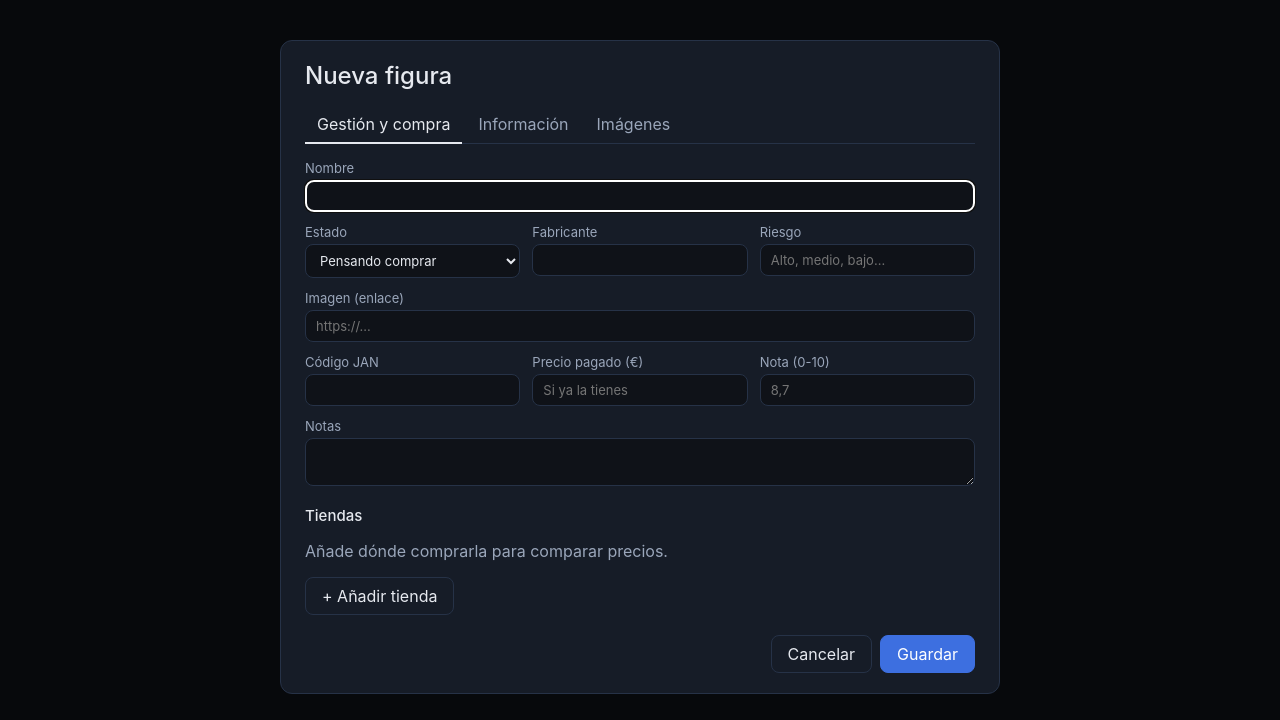
Scenario: FormularioFigura › pide elegir la tienda de cada fila
Type "Maga" into the field labelled "Nombre" at [640, 196], box [305, 180, 975, 212]
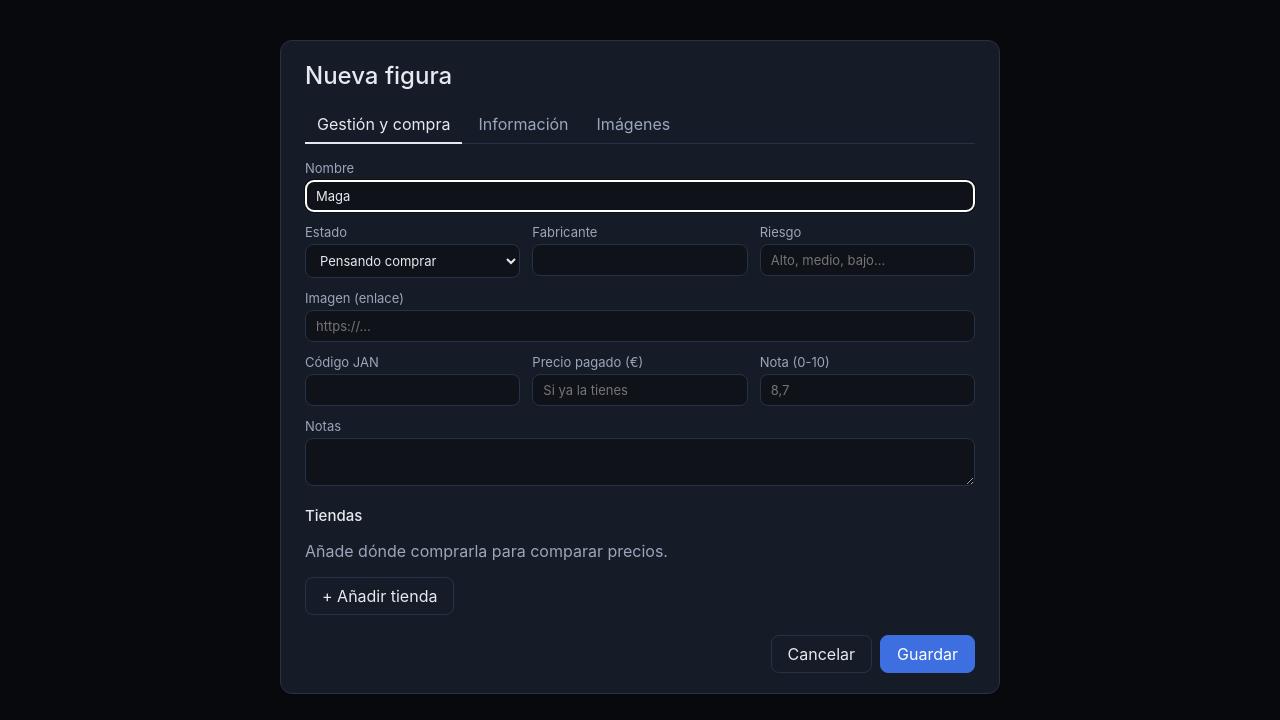
Click the button "+ Añadir tienda" at [380, 596], box [305, 577, 454, 615]
(page scrolled)
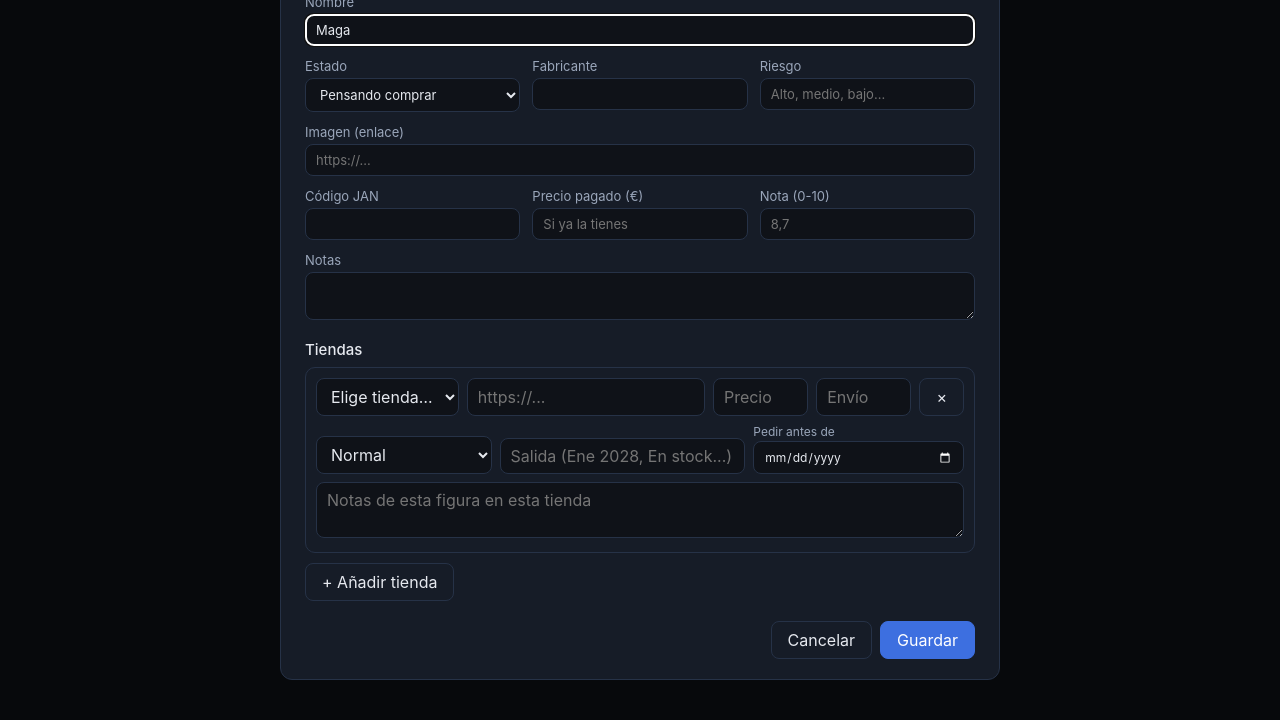
Click the button "Guardar" at [928, 640], box [880, 621, 975, 659]
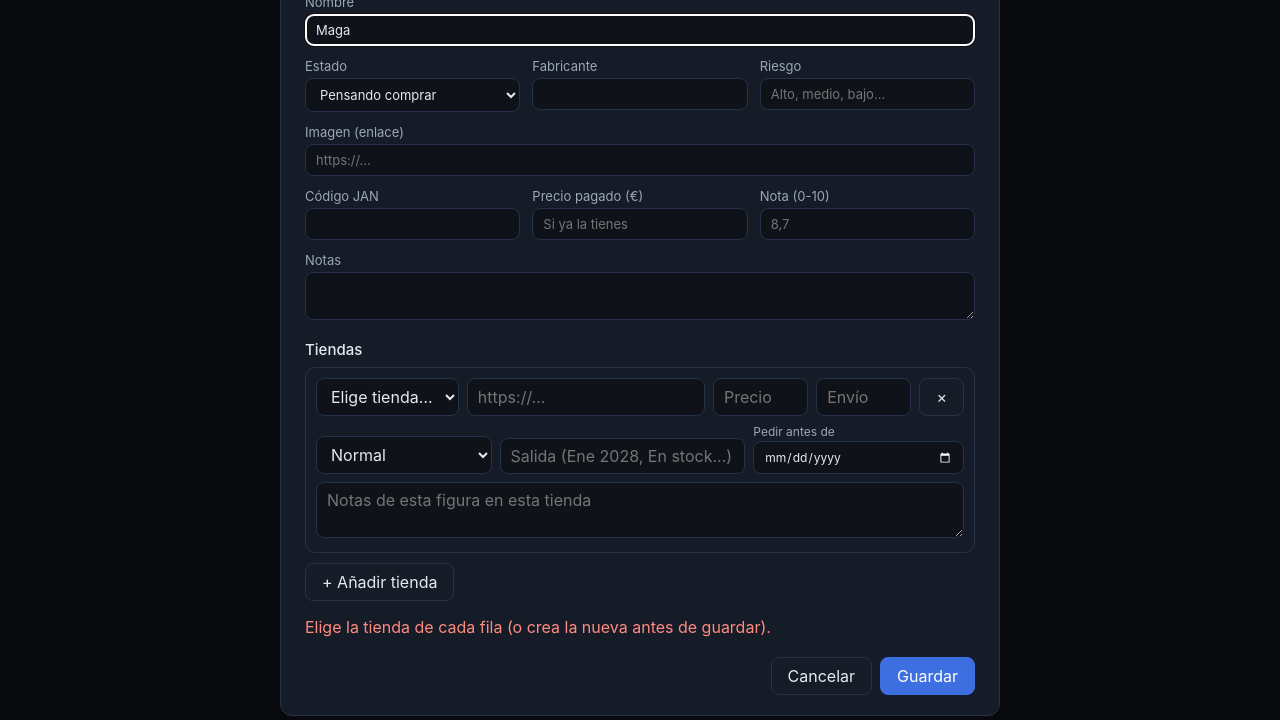
Expected: the message shows "Elige la tienda de cada fila", [305, 617, 771, 637]
